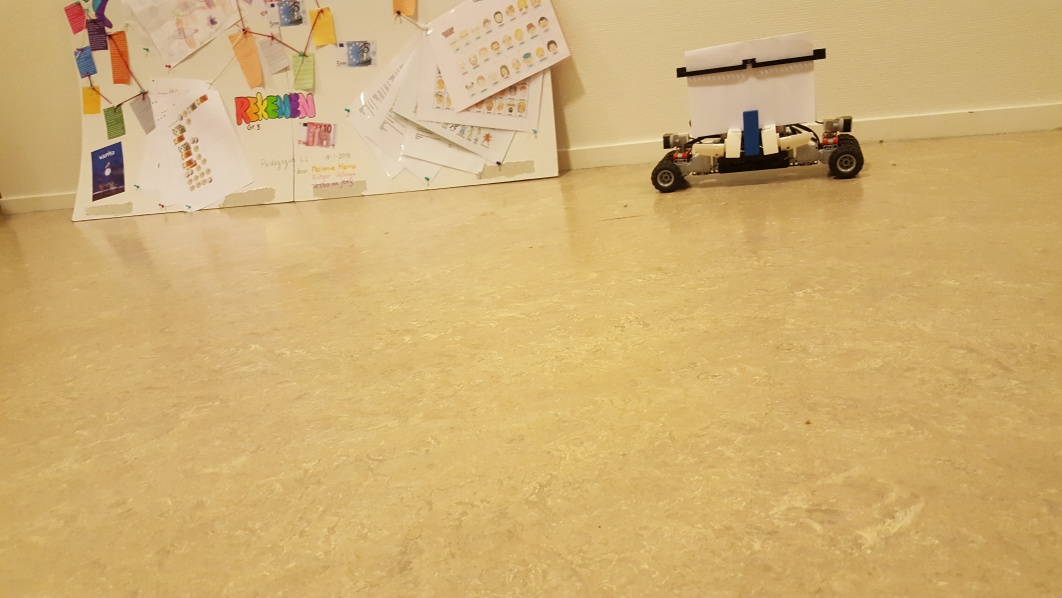beam: (742, 109, 762, 157)
